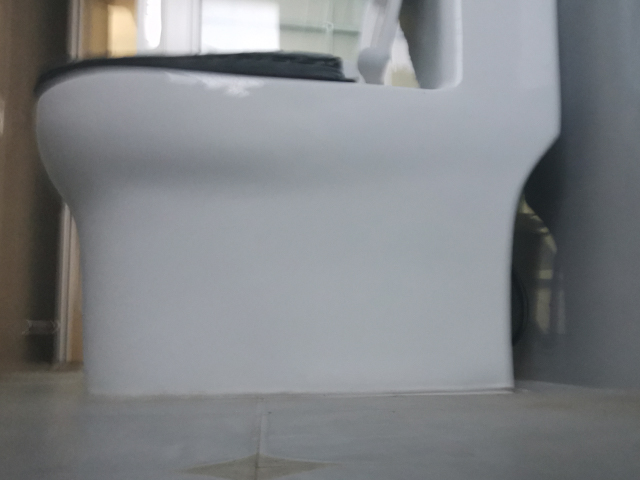closetool: (30, 1, 566, 401)
